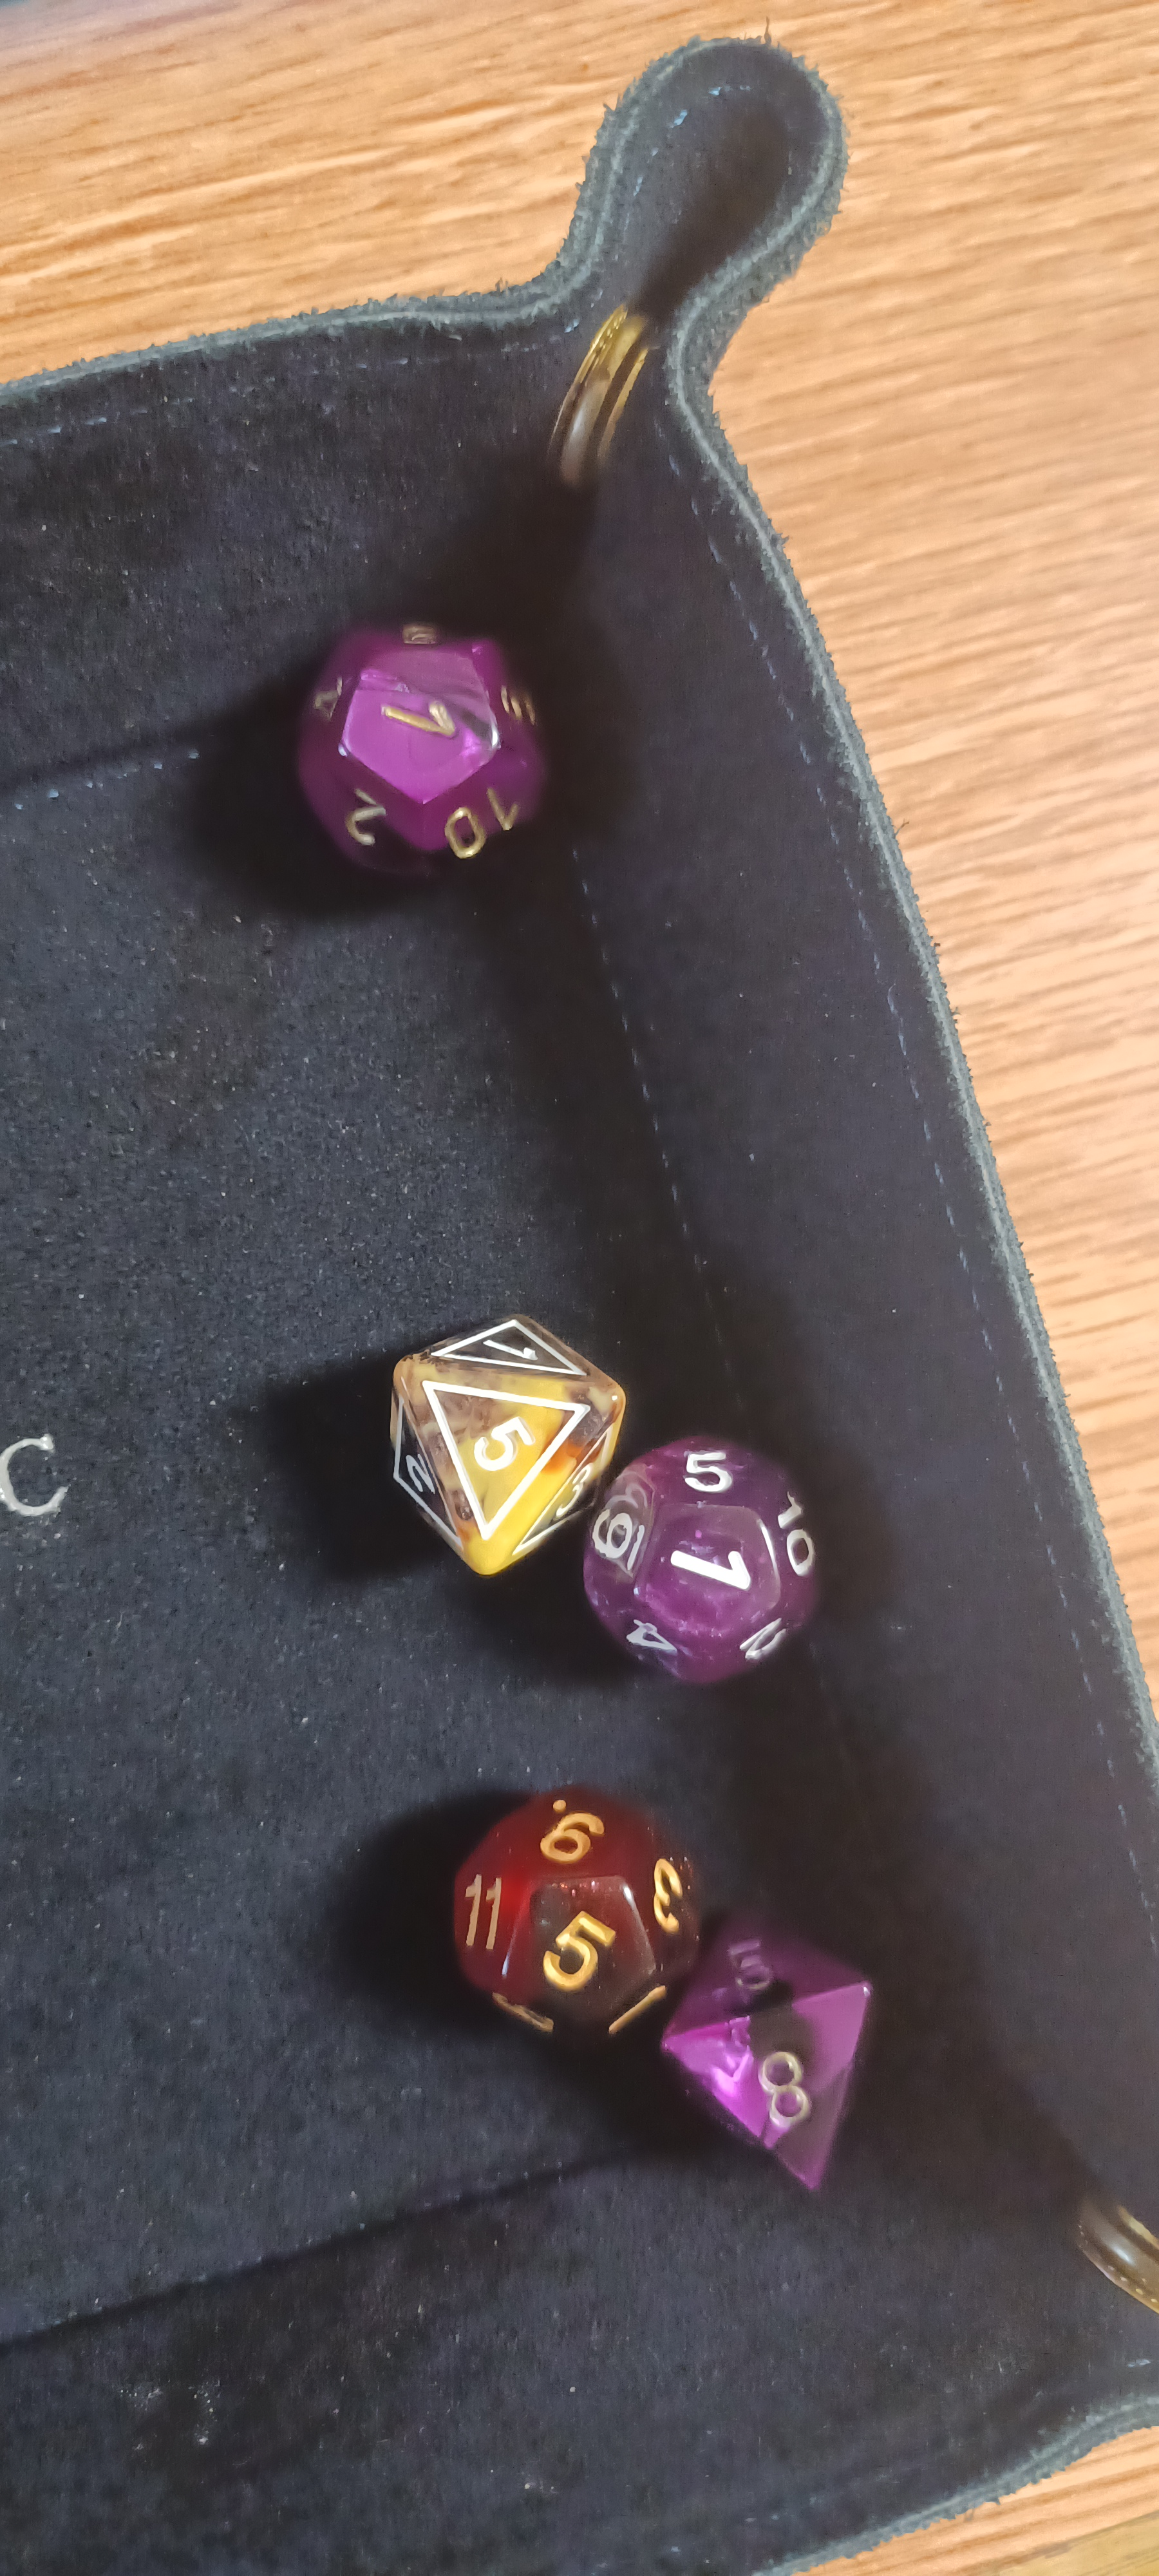eight: (625, 1906, 936, 2256)
five: (348, 1290, 650, 1595), (432, 1753, 714, 2057)
one: (259, 588, 591, 904), (558, 1413, 855, 1705)
